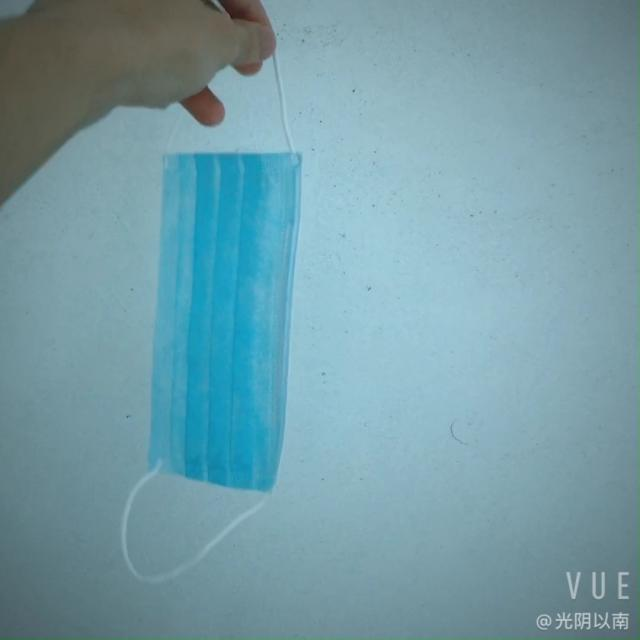face mask: (128, 140, 304, 504)
